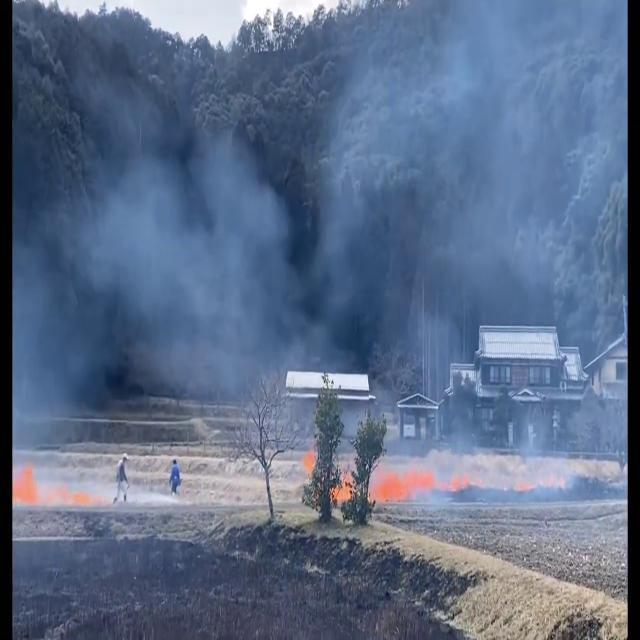Fire: (368, 462, 442, 496)
Smoke: (314, 2, 624, 428), (18, 74, 304, 463)
